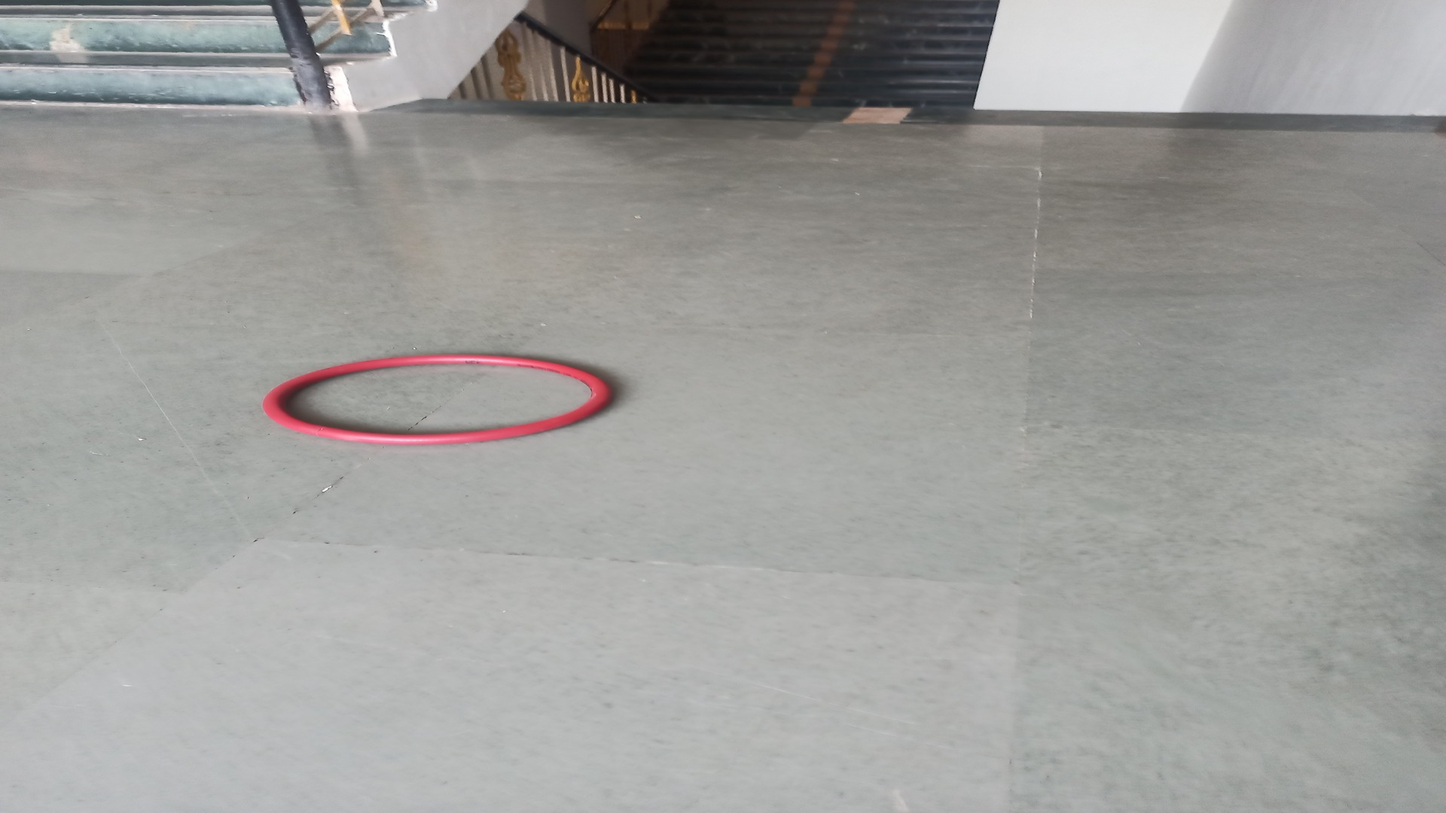Red ring: (261, 356, 616, 447)
